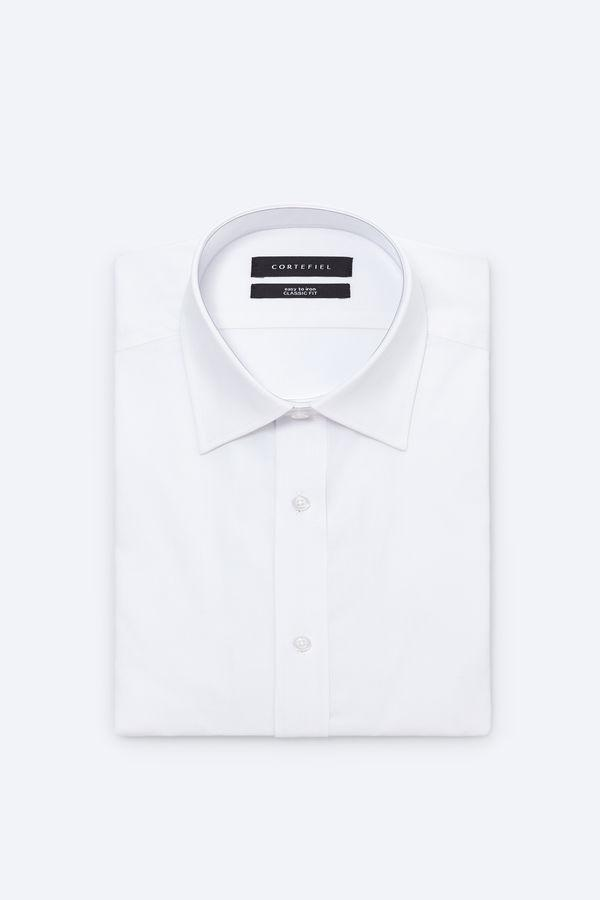teeshirt: (77, 201, 509, 763)
